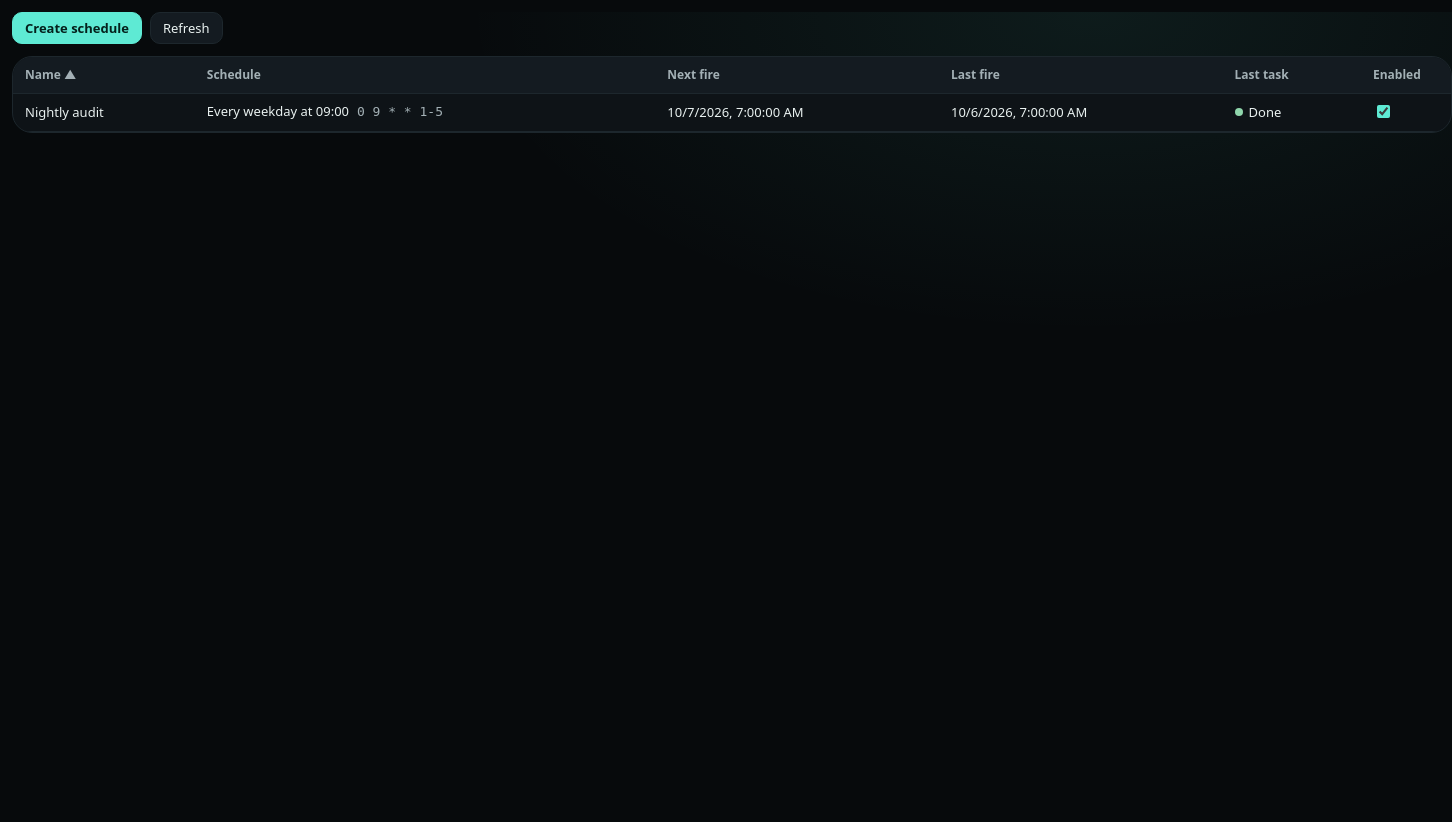
Schedules screen › runs a schedule now
This screenshot has width=1452, height=822.
Click the row "Nightly audit" at point(732, 112), box left=13, top=93, right=1451, bottom=131
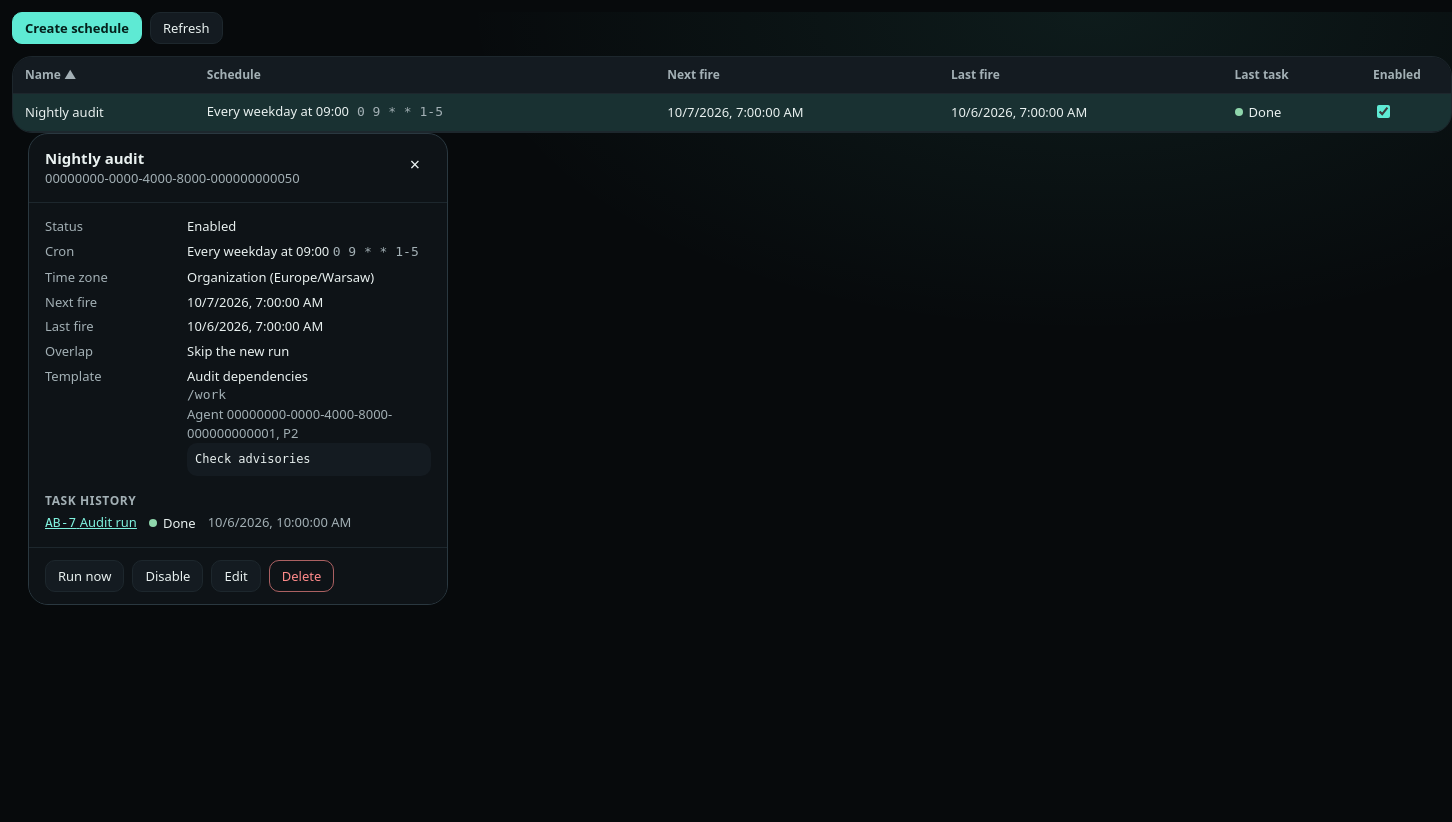
Click the button "Run now" at point(85, 576), box left=45, top=560, right=124, bottom=592
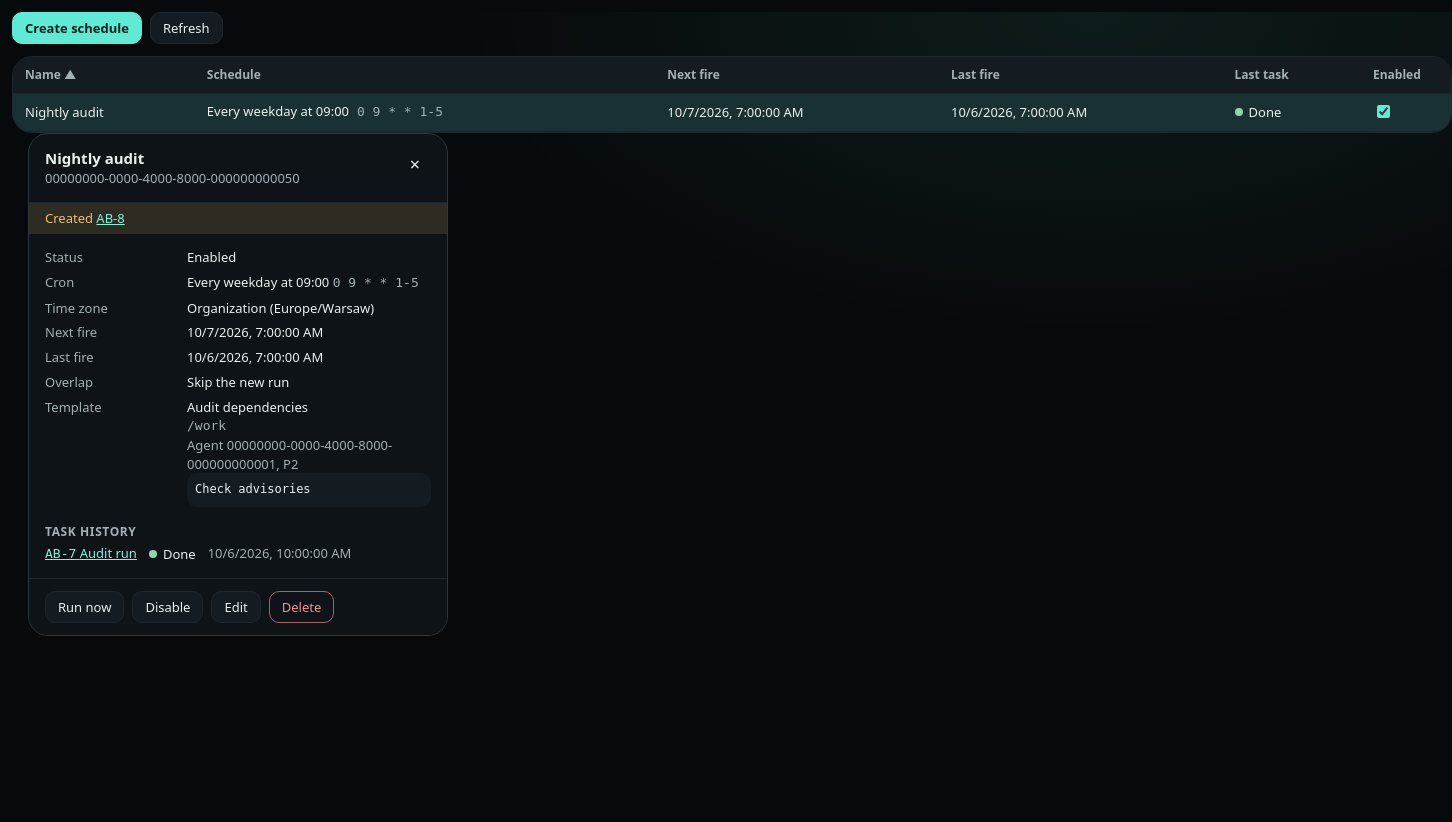
Expected: the link "AB-8" is shown, left=96, top=209, right=125, bottom=227
